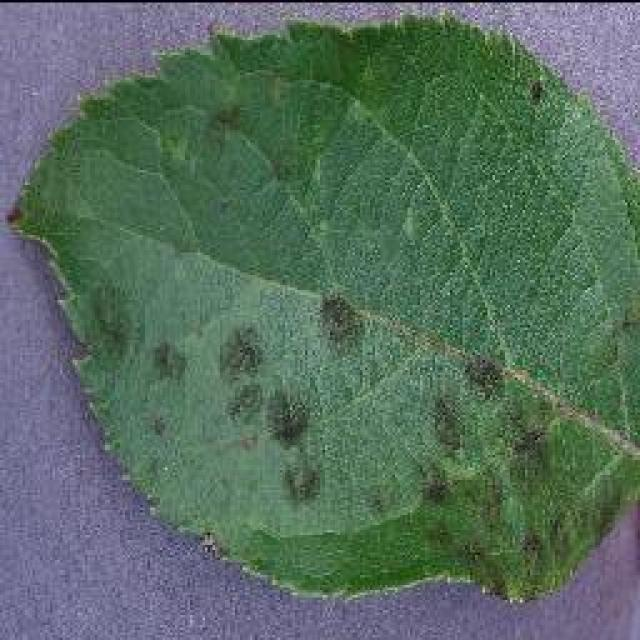apple scab disease: (5, 10, 637, 605)
